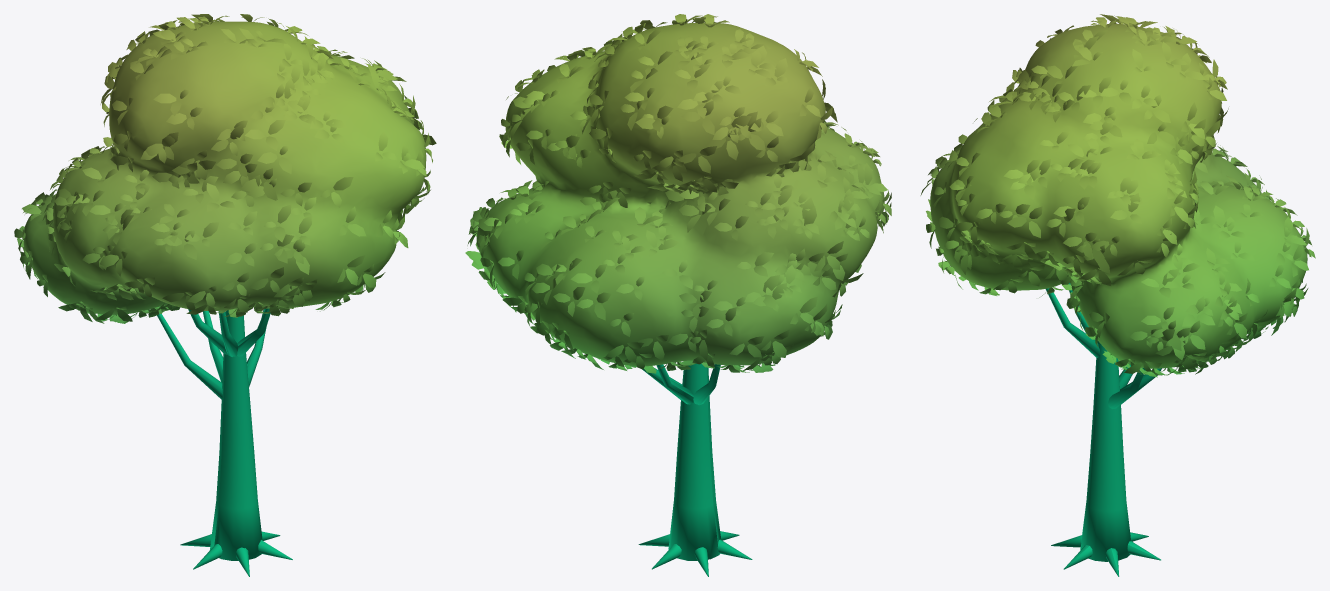
Rendered from beech_reference_b.glb.
3 views of the same model, side by side, from view 1: azimuth 30°, elevation 25°; view 2: azimuth 150°, elevation 25°; view 3: azimuth 270°, elevation 25° (orthographic). The views are drawn at different scales.
Visible parts, largest first — view 1: beech_reference_b_Leaves, beech_reference_b_Bark; view 2: beech_reference_b_Leaves, beech_reference_b_Bark; view 3: beech_reference_b_Leaves, beech_reference_b_Bark.
Boxes of the visible parts, x1,y1,x2,y2 form: beech_reference_b_Leaves: [14, 14, 436, 323]; beech_reference_b_Bark: [157, 308, 292, 576]; beech_reference_b_Leaves: [465, 14, 891, 373]; beech_reference_b_Bark: [638, 363, 752, 576]; beech_reference_b_Leaves: [920, 14, 1315, 377]; beech_reference_b_Bark: [1045, 283, 1161, 576].
Size of the model in its own units: 9.48 by 13.35 by 9.27.
